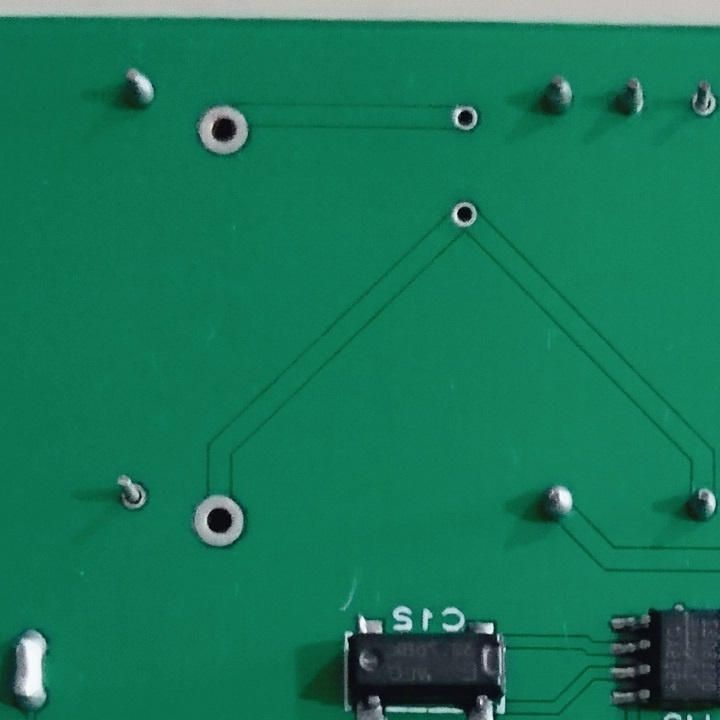F: (191, 489, 249, 554), (193, 105, 253, 158), (112, 470, 150, 514), (689, 78, 719, 119), (447, 100, 481, 132), (450, 196, 480, 231)
P: (7, 621, 56, 718)
